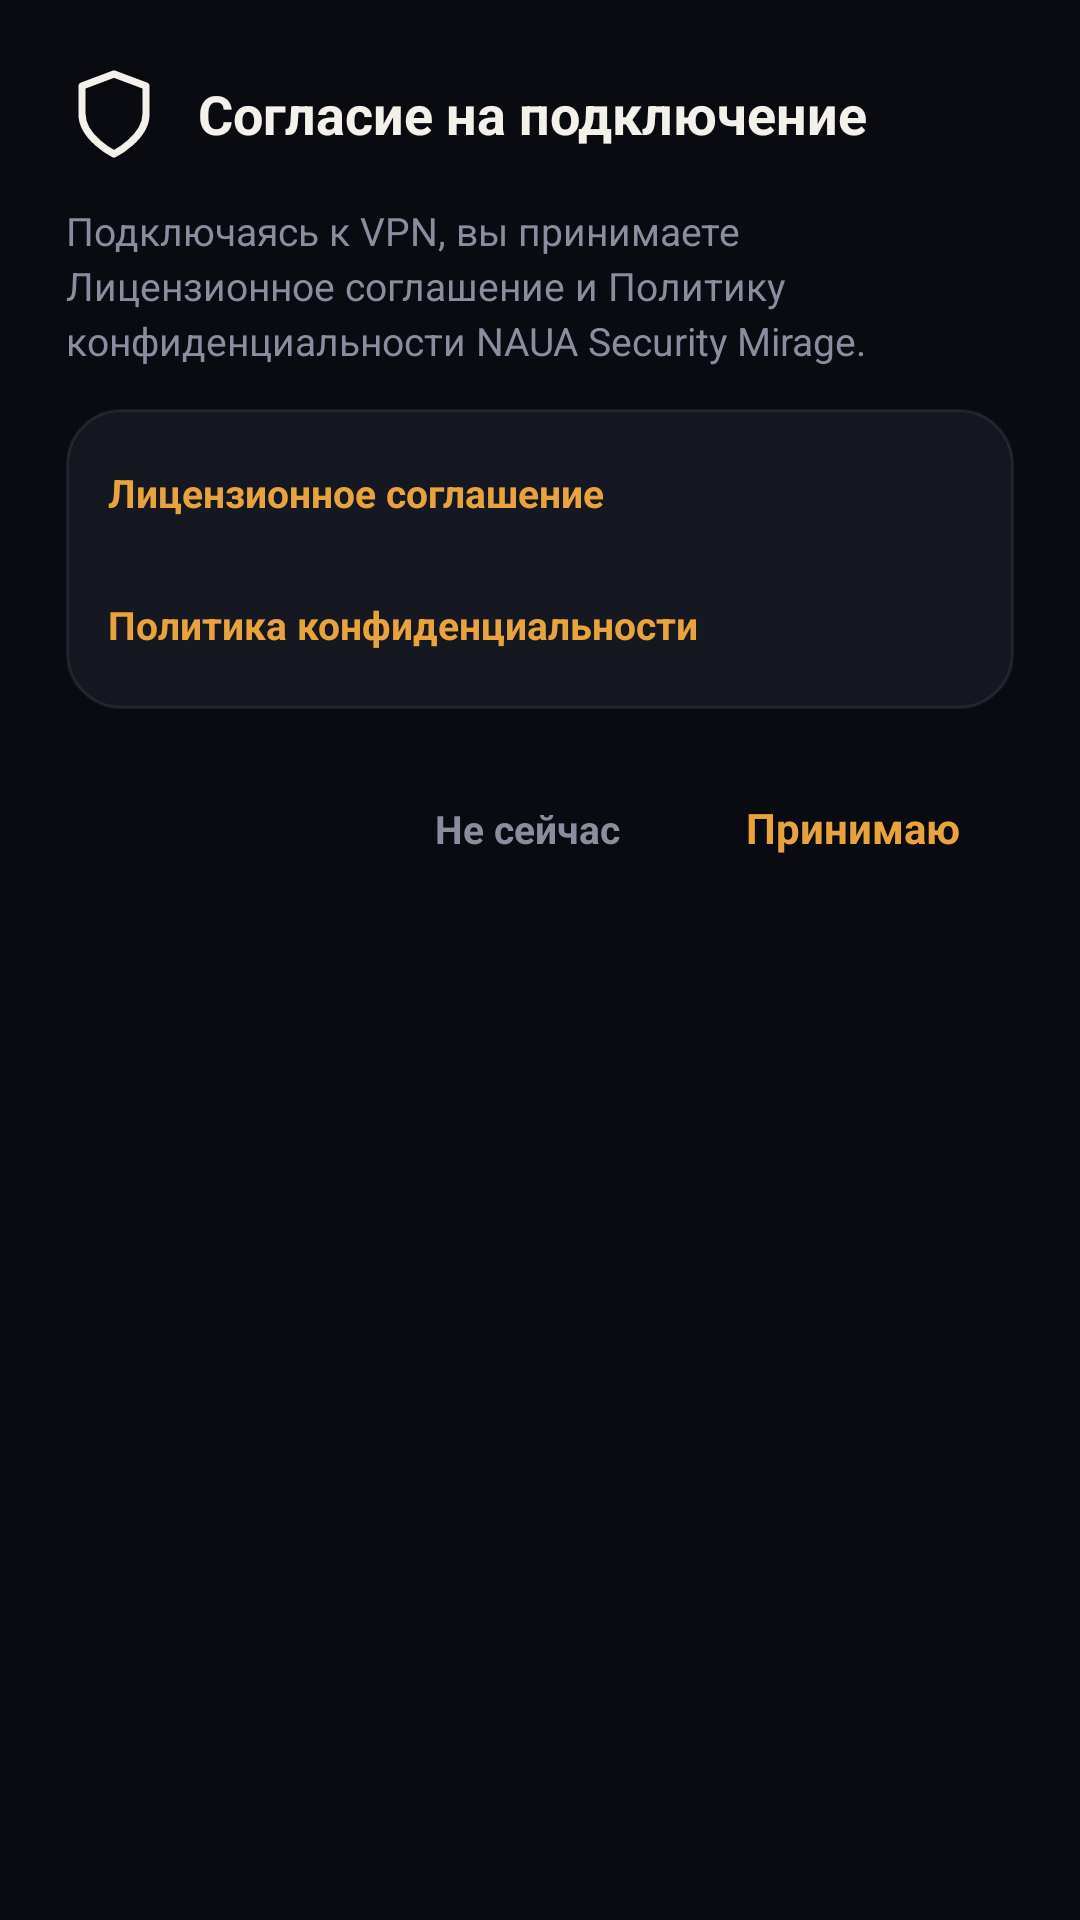

Where to tap for icons on this 1080 × 1920 app screen, as point (x, y):
shield: point (114, 114)
